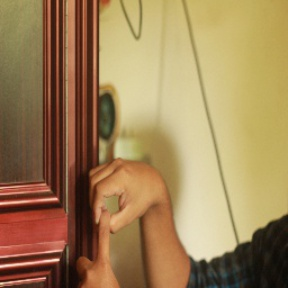Q: (66, 154, 169, 284)
